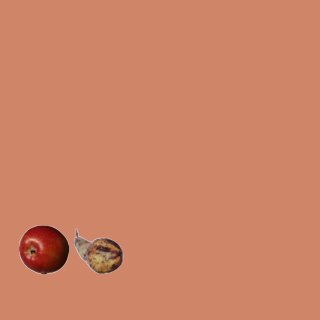Apple Braeburn: (18, 224, 68, 274)
Pear Abate: (73, 226, 123, 276)
